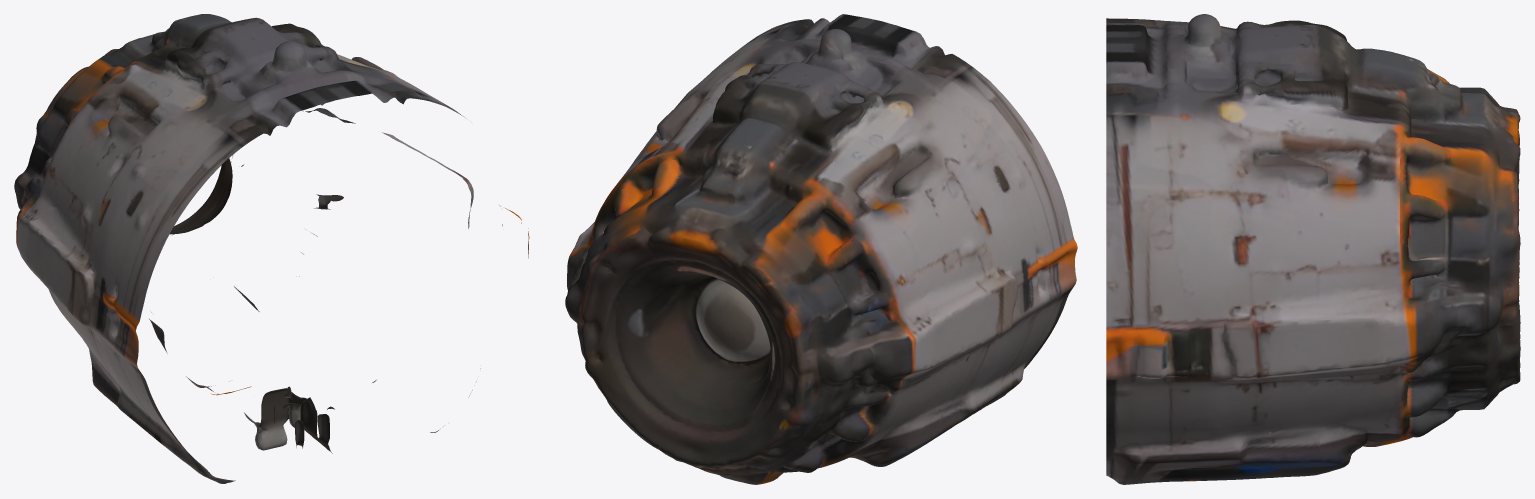
File: pampa-interior-nose.glb
3 views of the same model, side by side, from view 1: azimuth 30°, elevation 25°; view 2: azimuth 150°, elevation 25°; view 3: azimuth 270°, elevation 25° (orthographic). The views are drawn at different scales.
Visible parts, largest first — view 1: PAMPA nose / hull; view 2: PAMPA nose / hull; view 3: PAMPA nose / hull.
Boxes of the visible parts, left/top/right/bottom form: PAMPA nose / hull: left=14, top=14, right=529, bottom=483; PAMPA nose / hull: left=565, top=14, right=1077, bottom=484; PAMPA nose / hull: left=1106, top=14, right=1520, bottom=484.
Bounding box in the file's own units: 1.54 × 1.52 × 1.28.
1 material, 1 textured.
